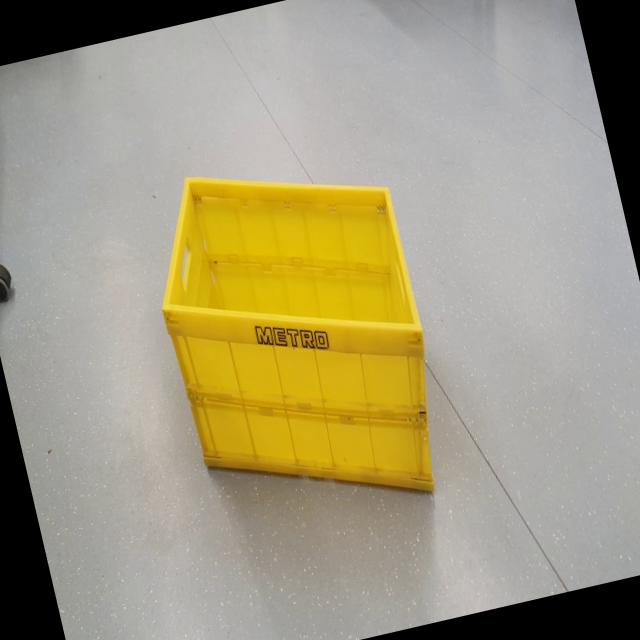box: (120, 114, 475, 575)
